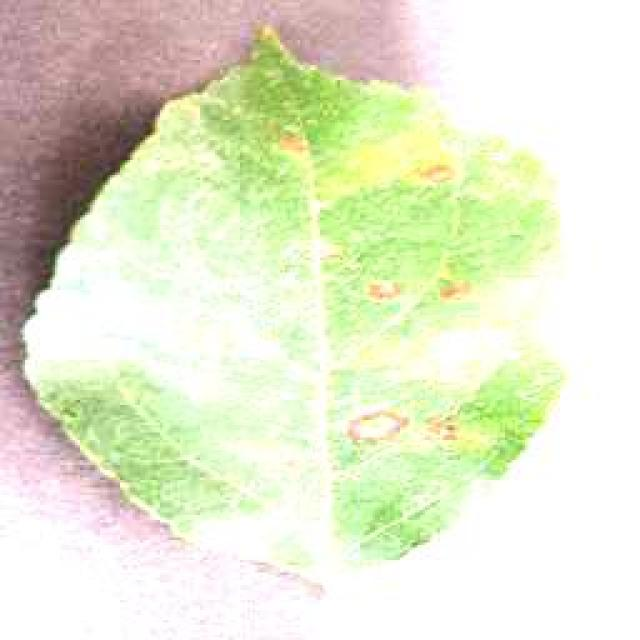apple healthy: (18, 20, 568, 588)
